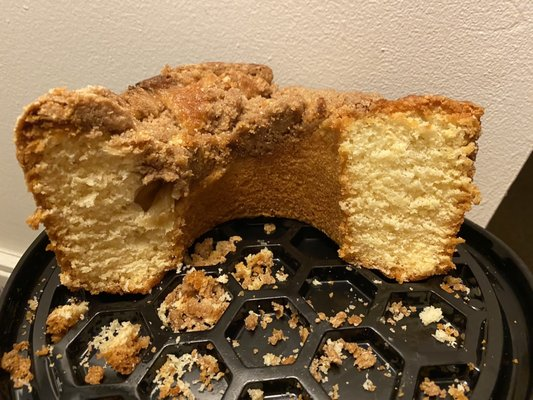sushi: (15, 61, 526, 296)
